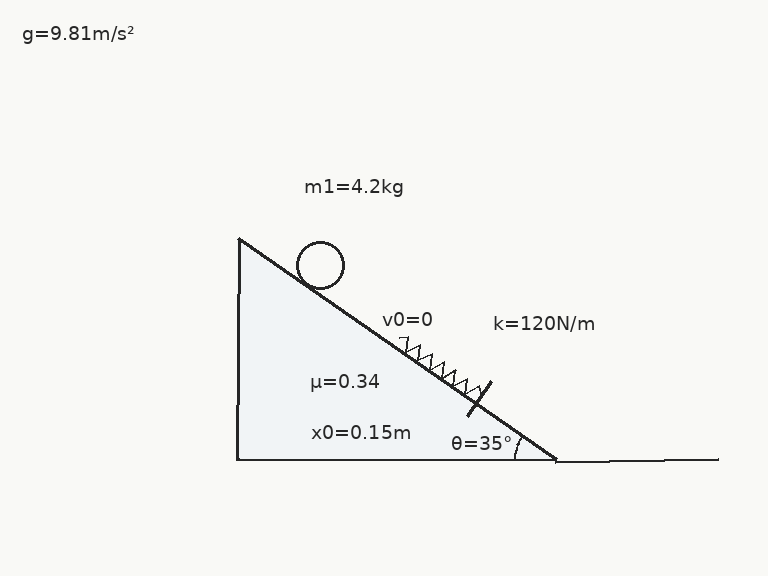ball: (294, 239, 346, 291)
ramp: (236, 235, 557, 461)
spring: (396, 335, 483, 398)
